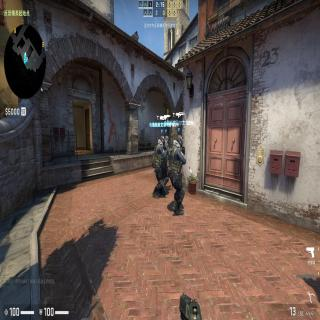CT-Head: (176, 135, 183, 147), (160, 136, 164, 144), (165, 136, 169, 144)
